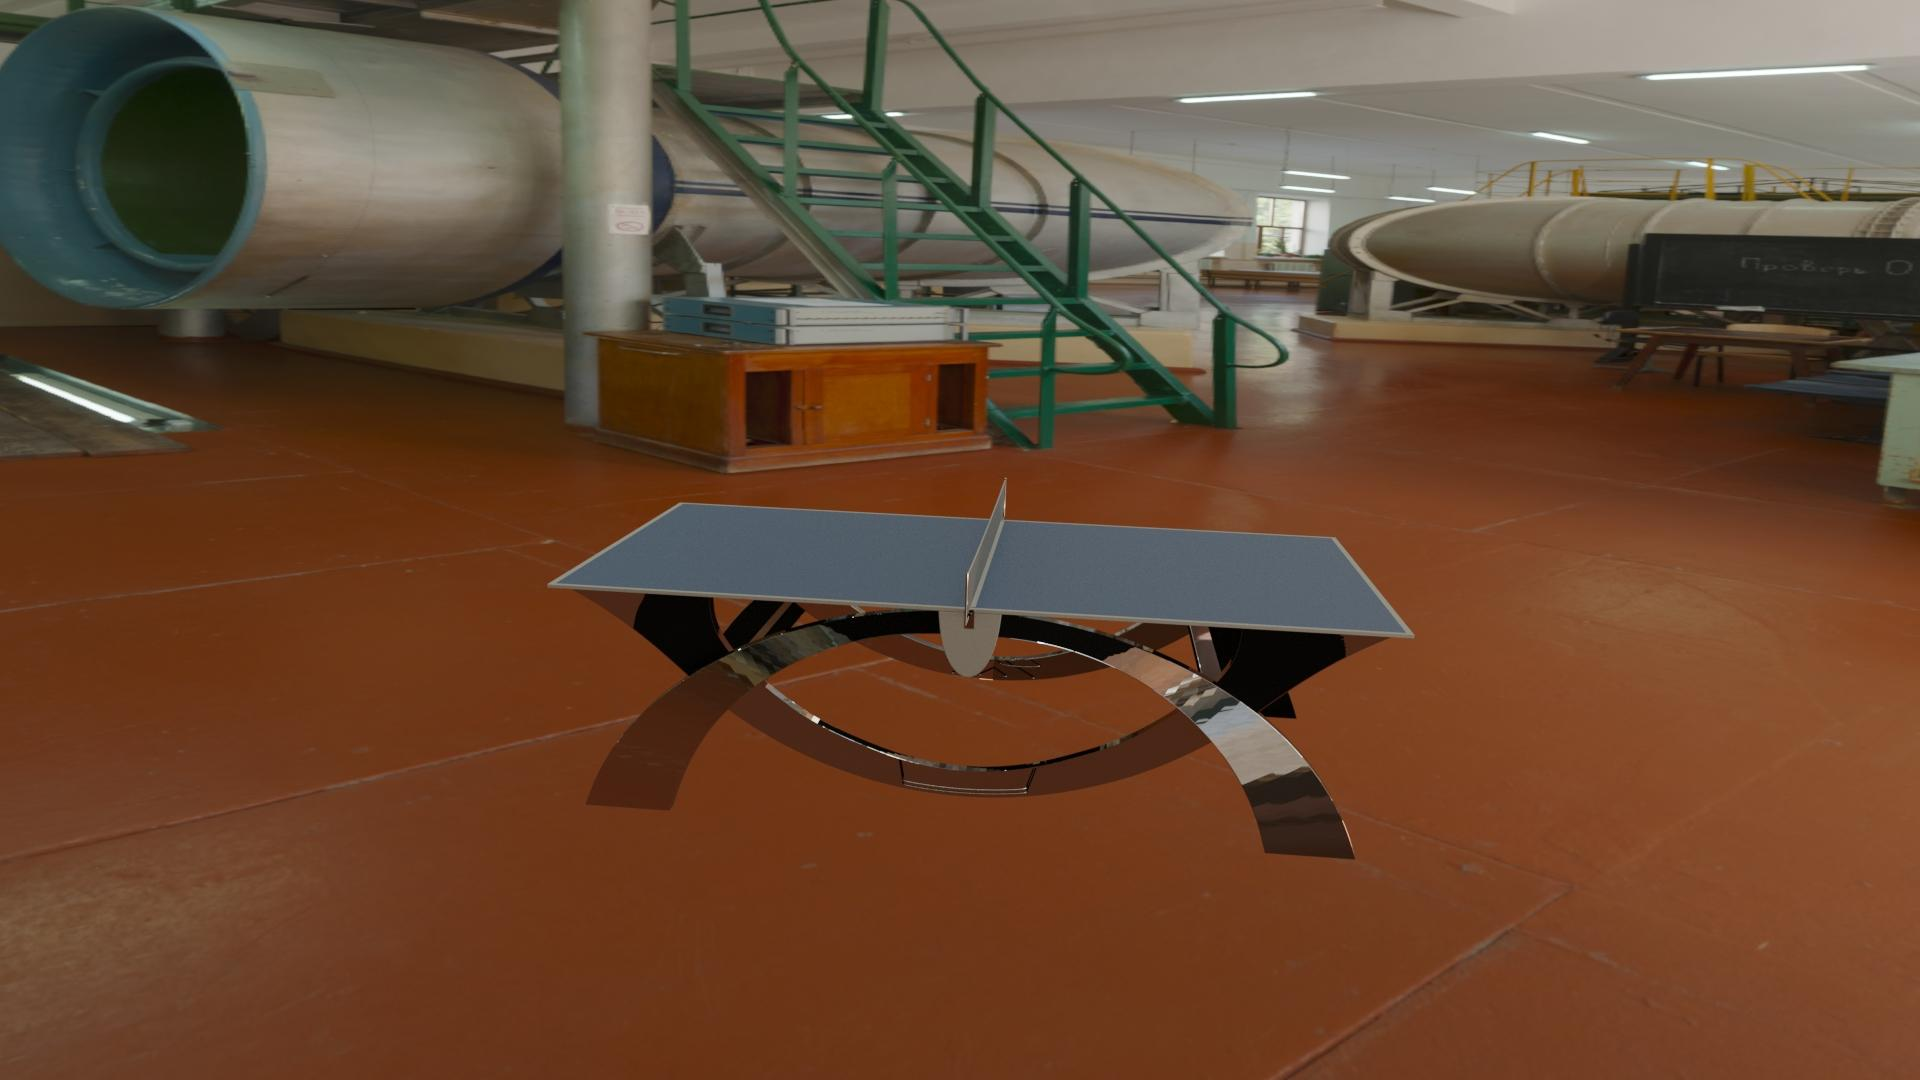table: (555, 504, 1407, 633)
